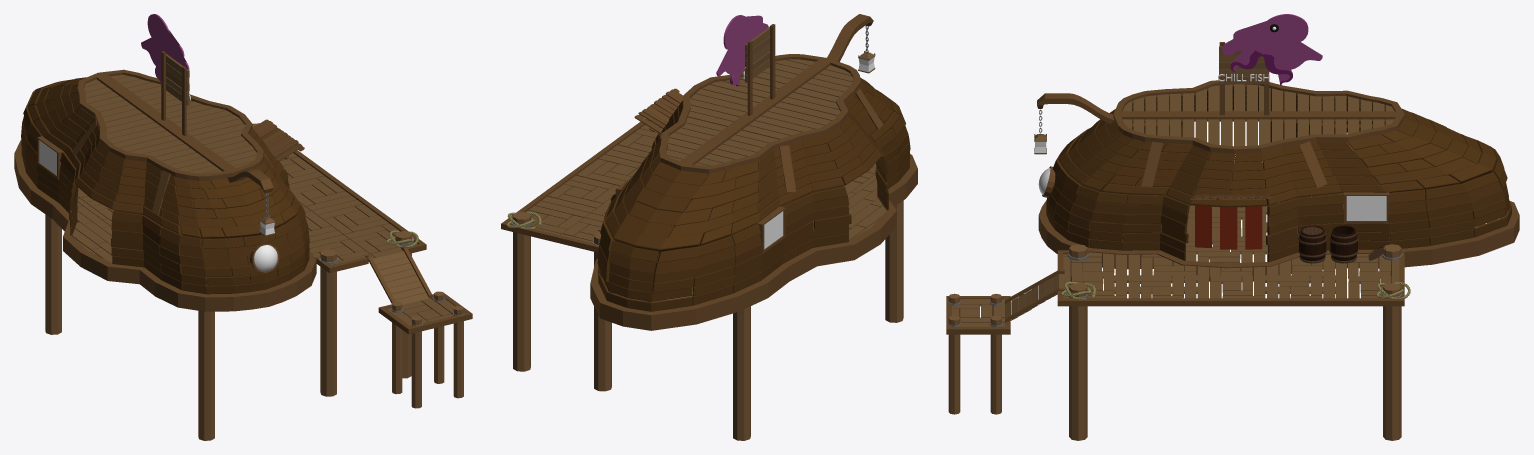
Rendered from ChillFishhouse2.fbx.
3 views of the same model, side by side, from view 1: azimuth 30°, elevation 25°; view 2: azimuth 150°, elevation 25°; view 3: azimuth 270°, elevation 25° (orthographic). The views are drawn at different scales.
Visible parts, largest first — view 1: Plane.003, Plane, Plane.008, Plane.009, Plane.010, Plane.007, Plane.011, Plane.012, Cylinder.001, Plane.002, Plane.001, Plane.004 (+36 smaller); view 2: Plane.003, Plane, Plane.008, Plane.009, Plane.011, Plane.010, Plane.007, Plane.012, Plane.004, Plane.006, Plane.001, Plane.005 (+38 smaller); view 3: Plane, Plane.008, Plane.003, Plane.010, Plane.011, Plane.009, Plane.007, Plane.012, Plane.006, Plane.005, Plane.004, Plane.031 (+30 smaller).
Part boxes in pixels (x1,y1,x2,y2): Plane.003: (14,139,316,311); Plane: (77,69,263,180); Plane.008: (27,79,300,238); Plane.009: (36,79,293,228); Plane.010: (44,79,287,218); Plane.007: (23,89,305,248); Plane.011: (52,77,281,209); Plane.012: (61,78,275,199); Cylinder.001: (320,249,336,396); Plane.002: (21,141,309,285); Plane.001: (21,148,309,294); Plane.004: (21,130,309,277); Plane.003: (590,154,917,330); Plane: (659,54,860,174); Plane.008: (605,90,900,253); Plane.009: (614,91,892,237); Plane.011: (632,80,880,212); Plane.010: (623,92,886,226); Plane.007: (600,104,905,262); Plane.012: (641,77,873,199); Plane.004: (597,142,910,293); Plane.006: (599,125,907,273); Plane.001: (598,159,909,311); Plane.005: (598,133,909,283); Plane: (1113,80,1404,153); Plane.008: (1058,110,1496,207); Plane.003: (1038,165,1519,281); Plane.010: (1076,100,1468,189); Plane.011: (1085,94,1452,180); Plane.009: (1068,105,1481,196); Plane.007: (1053,121,1504,216); Plane.012: (1095,89,1435,171); Plane.006: (1054,125,1507,226); Plane.005: (1051,133,1507,235); Plane.004: (1047,159,1508,245); Plane.031: (1222,14,1322,82).
Bounding box in the file's own units: 5740 × 6944 × 9986.
